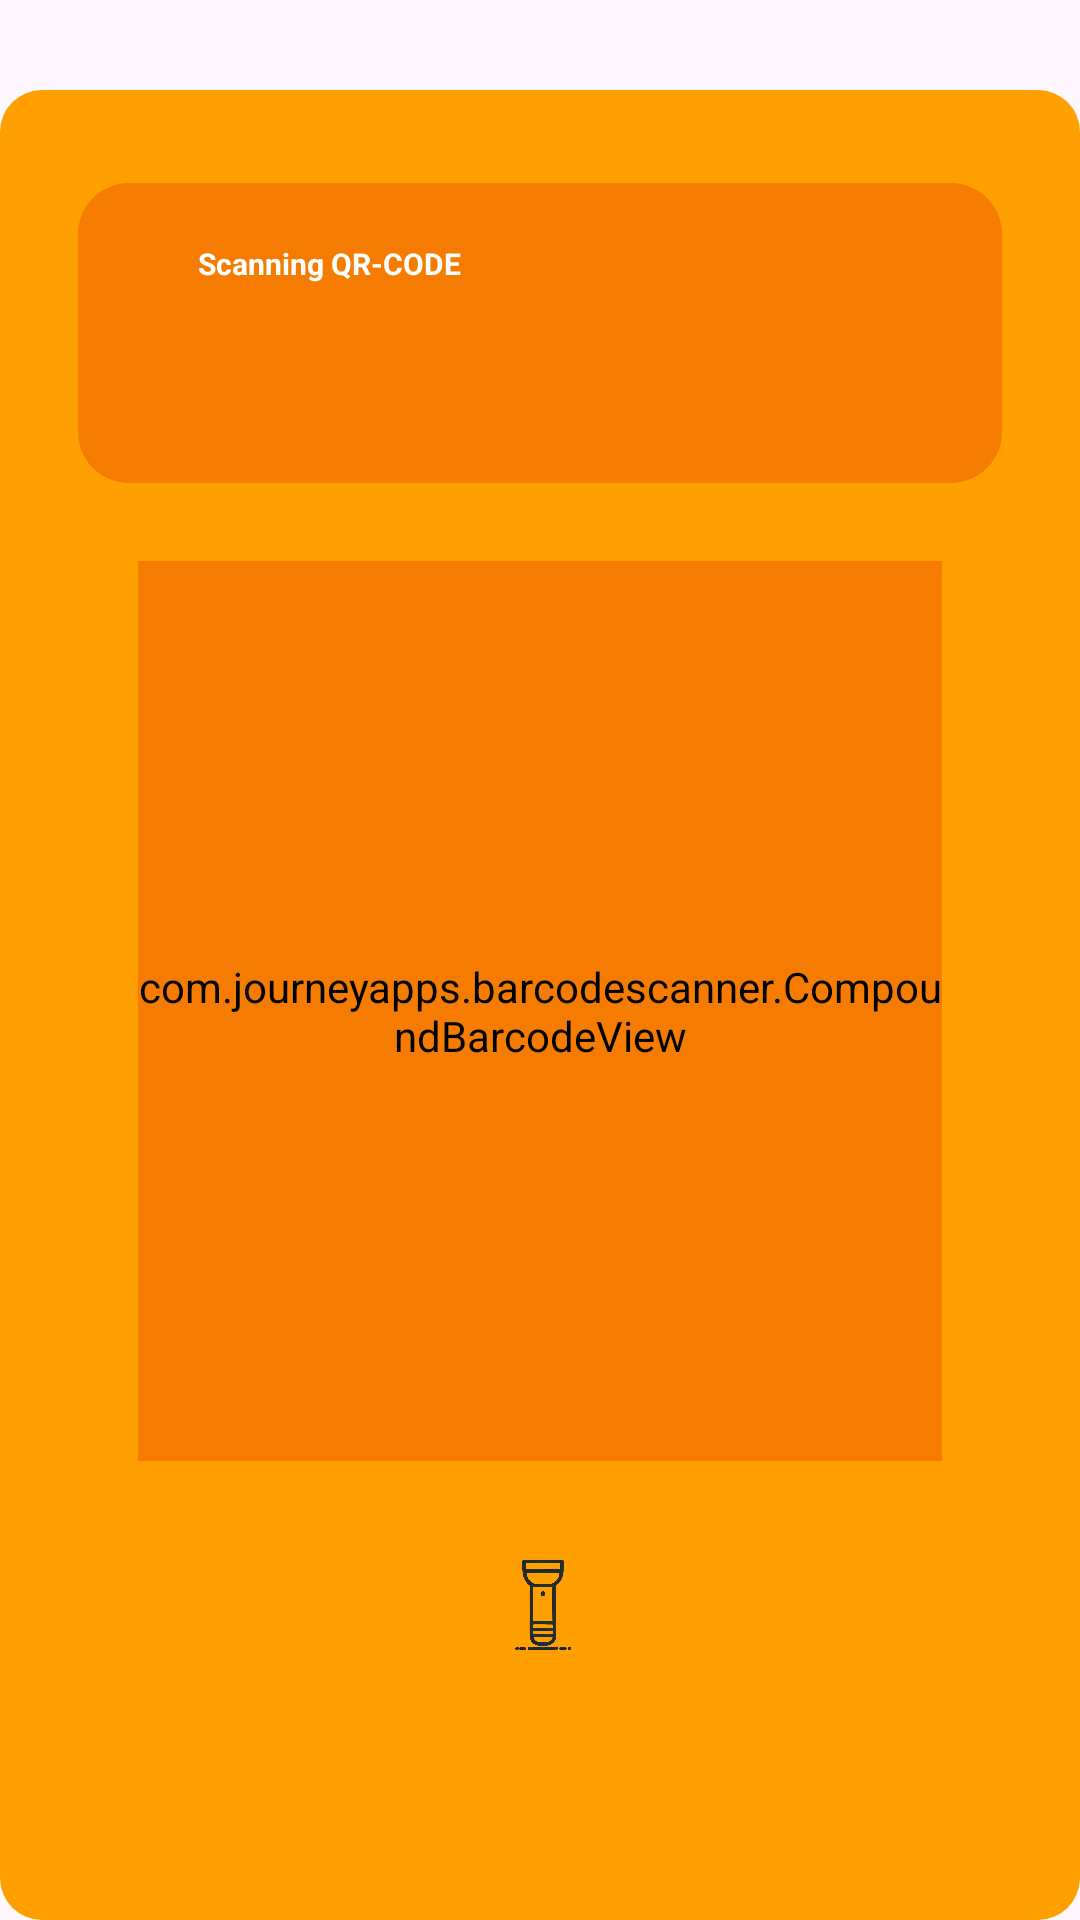

Icons on this 1080px×1920px Android screen, each with its box as (x1,y1,x2,y2):
Flash: (515,1560,571,1650)
